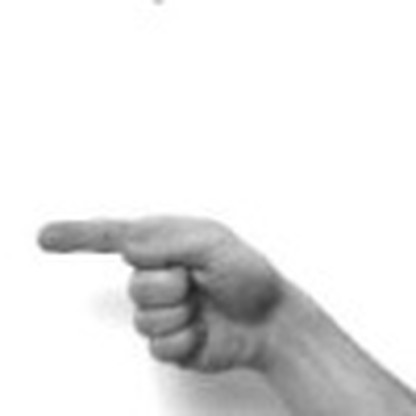g: (33, 202, 282, 380)
